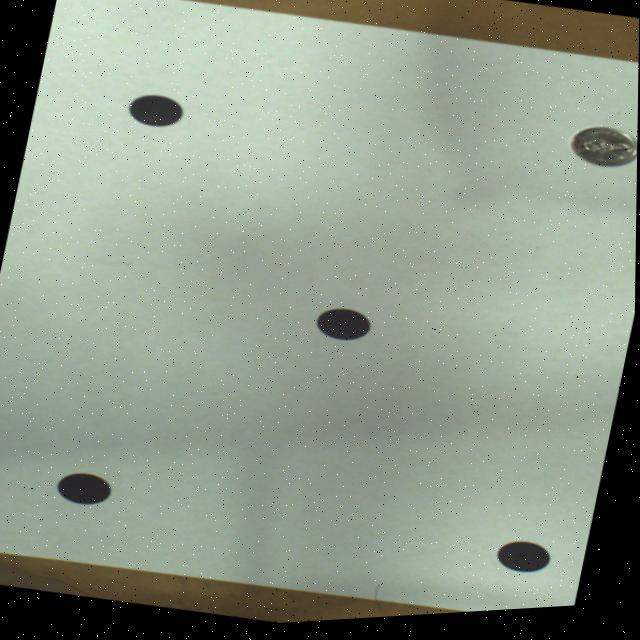space: (58, 474, 112, 506), (129, 97, 183, 129), (317, 313, 370, 345), (498, 548, 551, 579)
tail1bath: (570, 135, 638, 175)
